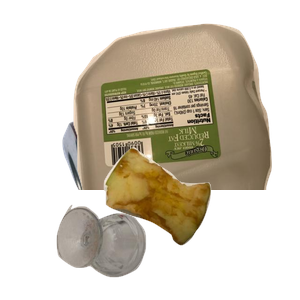glass: (54, 202, 193, 300)
metal: (60, 79, 300, 259)
plastic: (71, 21, 300, 201)
trash: (101, 145, 300, 300)
